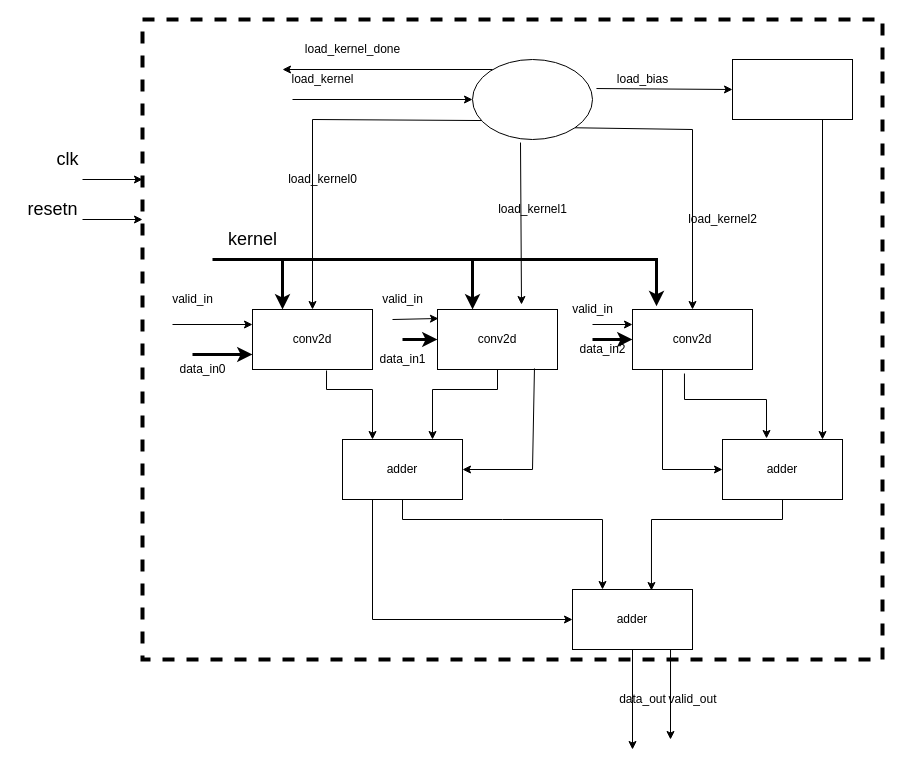
This 901x775 diagram has some shape labels left out. Here are the shapes that lost their labels. From the top down, the centre of each, then its label:
At point 532,99: "control".
At point 792,89: "bias".
